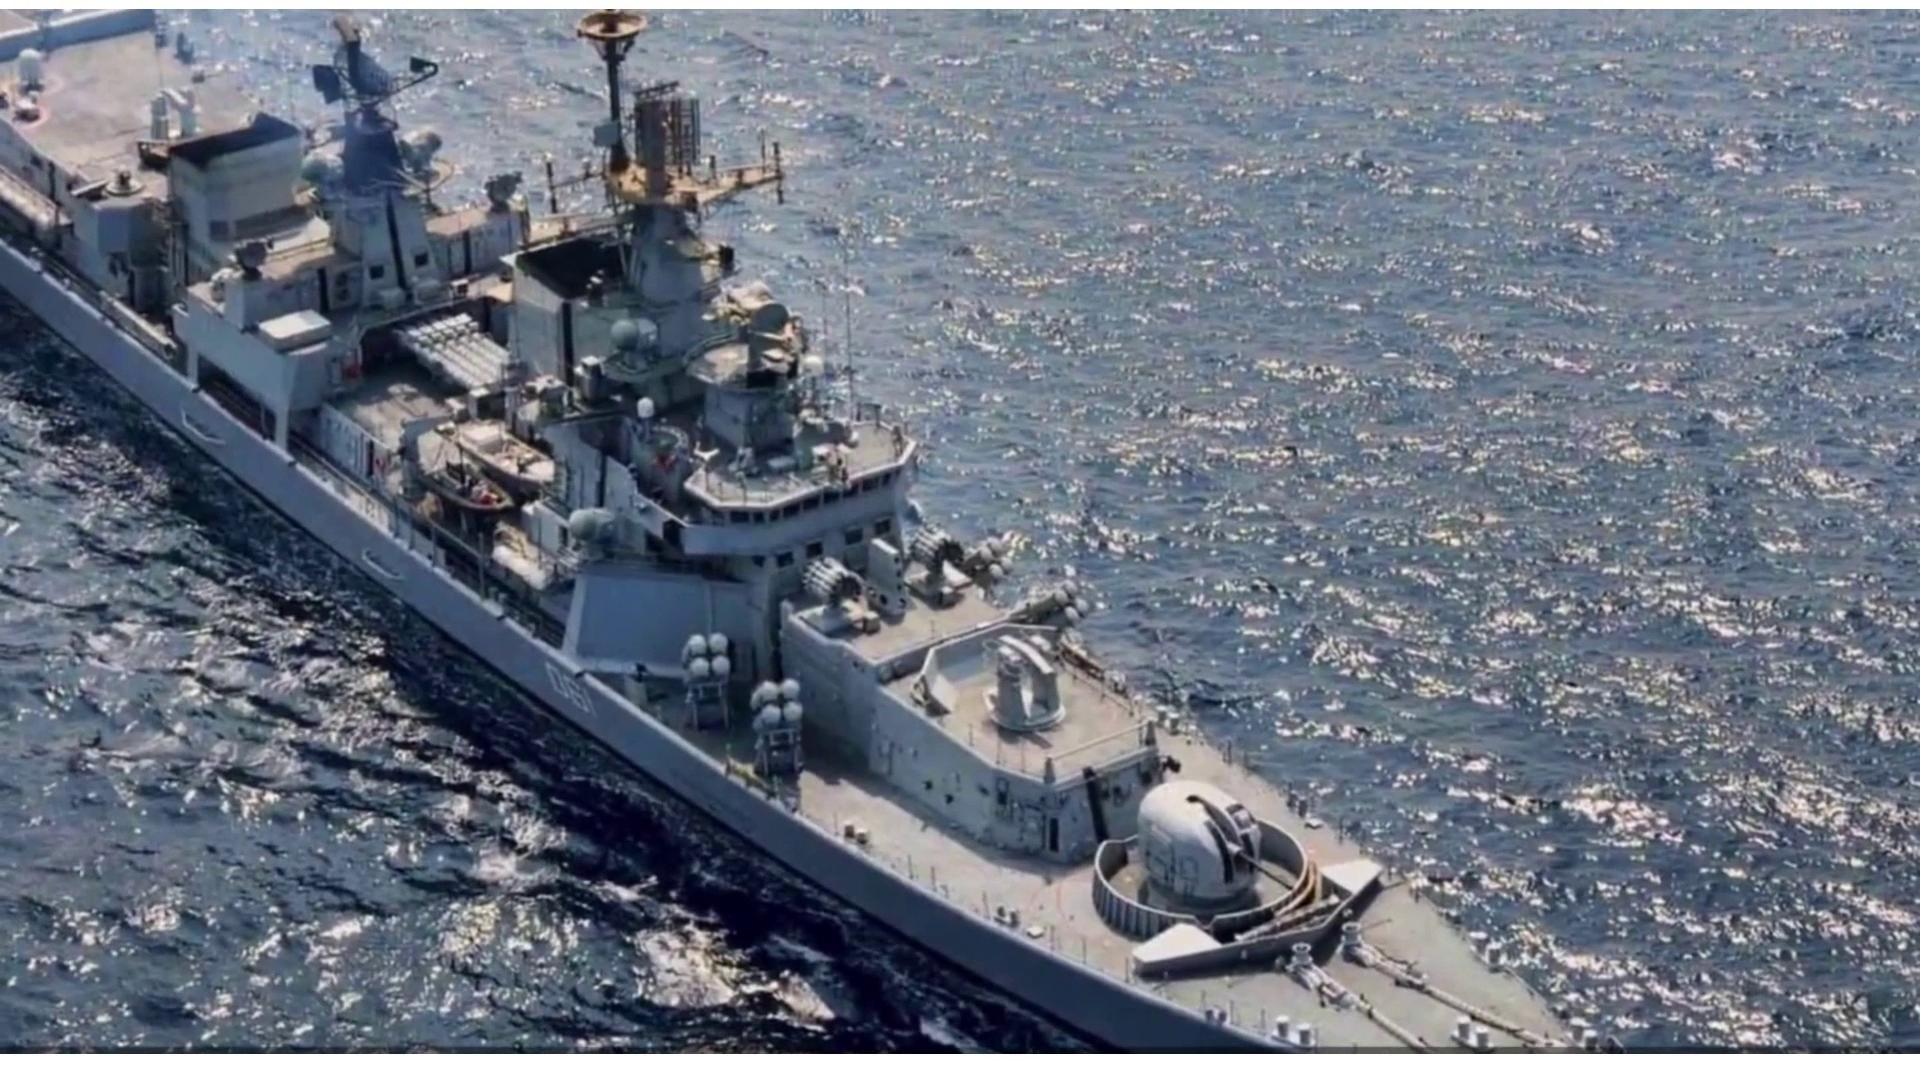OCR: (530, 652, 608, 733)
